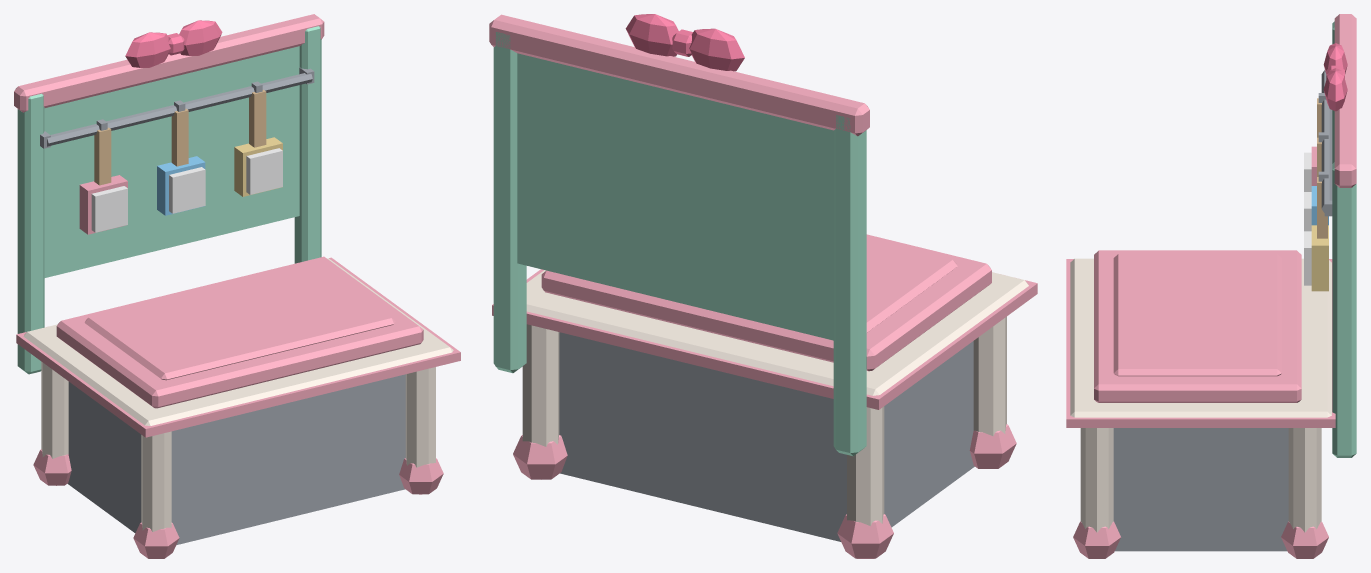
File: CleanACat_Station_BrushTableUp.fbx
3 renders of one model, left to right at view 1: azimuth 30°, elevation 25°; view 2: azimuth 150°, elevation 25°; view 3: azimuth 270°, elevation 25°, orthographic. The views are drawn at different scales.
Visible parts, largest first — view 1: CleanACat_Station_BrushTableUp, CleanACat_Station_BrushTableUp_Barrier; view 2: CleanACat_Station_BrushTableUp, CleanACat_Station_BrushTableUp_Barrier; view 3: CleanACat_Station_BrushTableUp, CleanACat_Station_BrushTableUp_Barrier.
Part boxes in pixels (x1,y1,x2,y2): CleanACat_Station_BrushTableUp: (14, 14, 460, 558); CleanACat_Station_BrushTableUp_Barrier: (67, 374, 405, 544); CleanACat_Station_BrushTableUp: (489, 14, 1037, 558); CleanACat_Station_BrushTableUp_Barrier: (559, 332, 974, 541); CleanACat_Station_BrushTableUp: (1066, 14, 1356, 558); CleanACat_Station_BrushTableUp_Barrier: (1113, 428, 1288, 551).
Size of the model in its own units: 3.46 by 4.37 by 2.65.
1 material, 1 textured.
